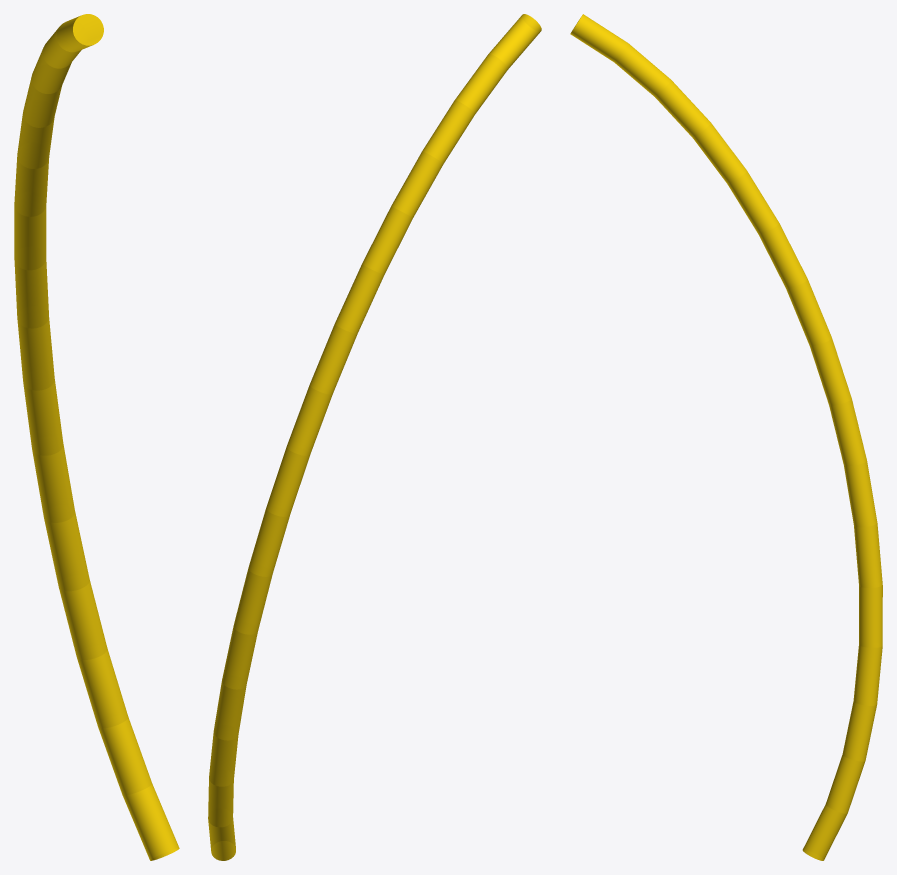
The model's file is Event_420094457_track_37.fbx.
3 views of the same model, side by side, from view 1: azimuth 30°, elevation 25°; view 2: azimuth 150°, elevation 25°; view 3: azimuth 270°, elevation 25° (orthographic). The views are drawn at different scales.
Visible parts, largest first — view 1: Model; view 2: Model; view 3: Model.
Part boxes in pixels (bbox=[...]): Model: bbox=[14, 14, 179, 860]; Model: bbox=[208, 14, 541, 860]; Model: bbox=[570, 14, 882, 860].
Size of the model in its own units: 0.3778 by 1.4 by 0.5231.
